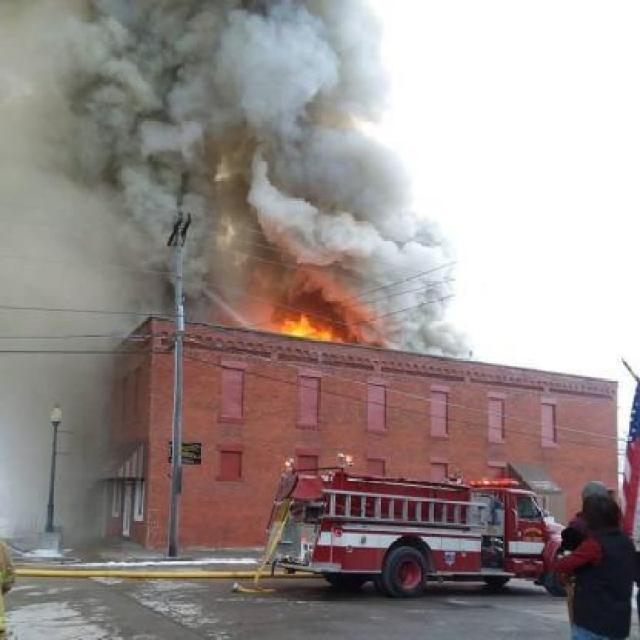Fire: (228, 286, 400, 368)
Smoke: (0, 4, 468, 363)
